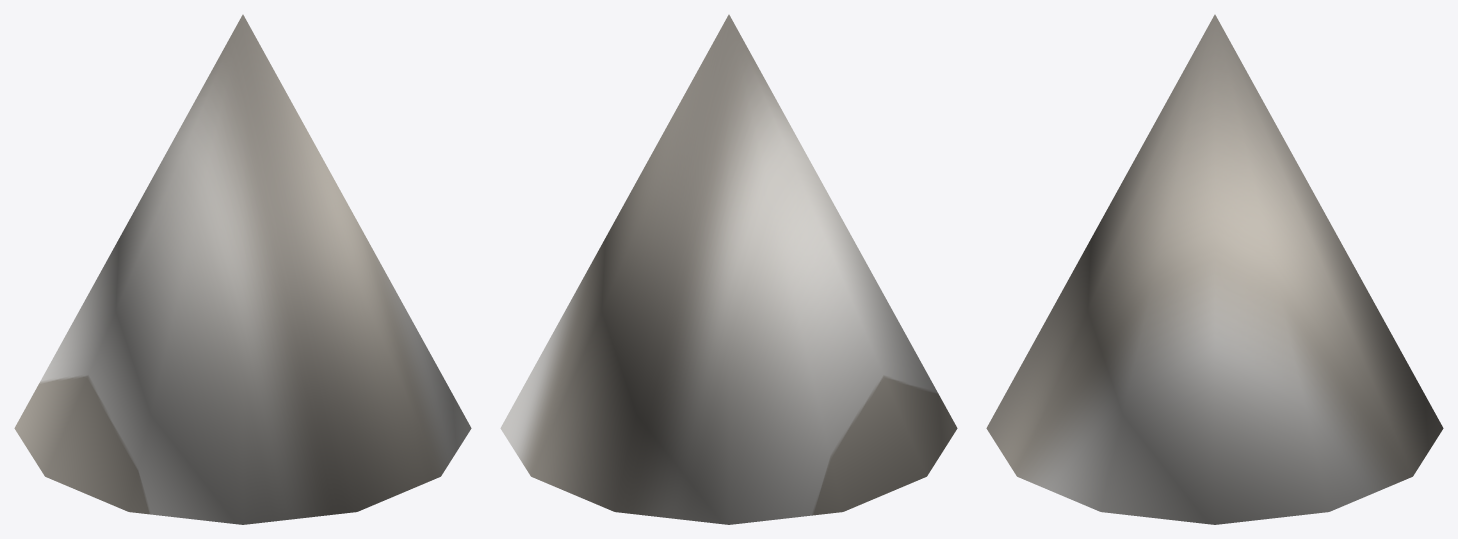
Rendered from Thorn.fbx.
The picture shows the model from 3 angles, left to right: view 1: azimuth 30°, elevation 25°; view 2: azimuth 150°, elevation 25°; view 3: azimuth 270°, elevation 25°; orthographic projection.
Parts seen in each view (by area): view 1: 円錐; view 2: 円錐; view 3: 円錐.
Boxes of the visible parts, <box> form: 円錐: <box>14,14,471,524</box>; 円錐: <box>500,14,957,524</box>; 円錐: <box>986,14,1443,524</box>.
Size of the model in its own units: 315 by 315 by 315.
Materials: 1 (1 with a texture image).
